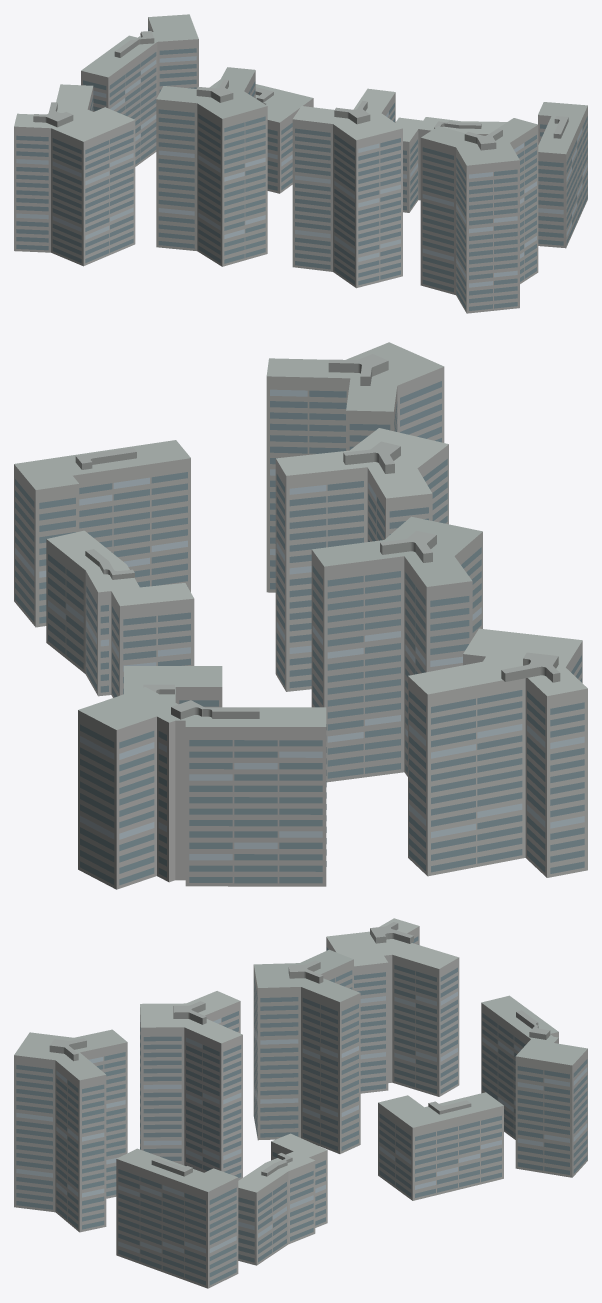
File: apt-a13716003.glb
The picture shows the model from 3 angles, top to bottom: view 1: azimuth 30°, elevation 25°; view 2: azimuth 150°, elevation 25°; view 3: azimuth 270°, elevation 25°; orthographic projection. The views are drawn at different scales.
Visible parts, largest first — view 1: apt-a13716003; view 2: apt-a13716003; view 3: apt-a13716003.
Part boxes in pixels (x1,y1,x2,y2): apt-a13716003: [14, 14, 587, 313]; apt-a13716003: [14, 342, 587, 889]; apt-a13716003: [14, 918, 587, 1288].
Size of the model in its own units: 190 by 58 by 190.
